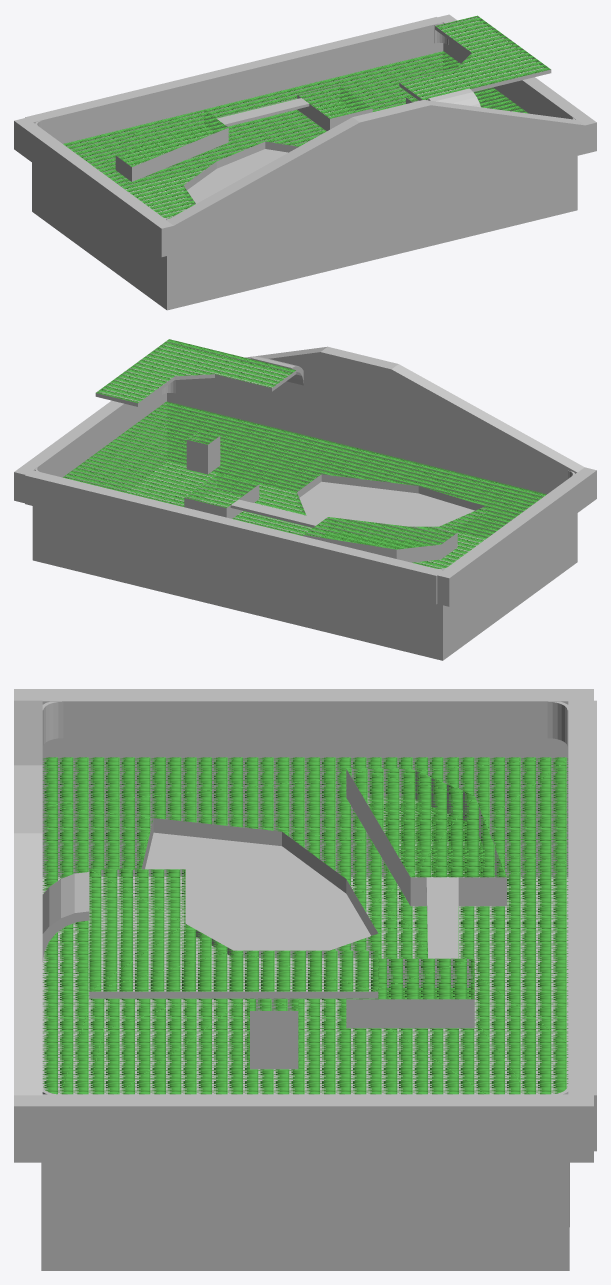
The model's file is MeadowMatchMesh.fbx.
3 views of the same model, one above another, from view 1: azimuth 30°, elevation 25°; view 2: azimuth 150°, elevation 25°; view 3: azimuth 270°, elevation 25° (orthographic). The views are drawn at different scales.
Parts seen in each view (by area): view 1: Ground, Cube__1_, Cube, Cube__3_, BigOleFloaty, GreaterChonky, Cube__2_, LesserChonky, Bridge, Arch__5_; view 2: Ground, Cube__1_, Cube, Cube__3_, BigOleFloaty, Cube__2_, GreaterChonky, LesserChonky, Cube_1, Bridge, Arch__5_; view 3: Ground, Cube__2_, Cube__3_, BigOleFloaty, GreaterChonky, Cube, Cube__1_, LesserChonky, Cube_1, Bridge, Arch__5_, Arch__1_ (+1 smaller).
Part boxes in pixels (x1,y1,x2,y2): Ground: [32, 51, 577, 310]; Cube__1_: [167, 100, 585, 254]; Cube: [25, 17, 443, 143]; Cube__3_: [14, 118, 173, 257]; BigOleFloaty: [399, 15, 551, 100]; GreaterChonky: [115, 110, 228, 181]; Cube__2_: [437, 14, 596, 153]; LesserChonky: [297, 84, 372, 130]; Bridge: [217, 98, 309, 126]; Arch__5_: [428, 88, 480, 107]; Ground: [32, 401, 577, 660]; Cube__1_: [167, 346, 584, 493]; Cube: [25, 470, 442, 604]; Cube__3_: [437, 467, 596, 606]; BigOleFloaty: [95, 339, 296, 406]; Cube__2_: [14, 389, 166, 503]; GreaterChonky: [303, 517, 457, 562]; LesserChonky: [184, 474, 259, 518]; Cube_1: [186, 431, 220, 474]; Bridge: [230, 499, 323, 527]; Arch__5_: [250, 356, 303, 385]; Ground: [41, 757, 569, 1270]; Cube__2_: [14, 1094, 593, 1162]; Cube__3_: [14, 689, 593, 757]; BigOleFloaty: [89, 869, 378, 998]; GreaterChonky: [346, 768, 506, 906]; Cube: [568, 700, 596, 1151]; Cube__1_: [14, 700, 42, 1095]; LesserChonky: [346, 958, 474, 1028]; Cube_1: [250, 998, 298, 1069]; Bridge: [426, 877, 458, 963]; Arch__5_: [42, 872, 89, 961]; Arch__1_: [42, 701, 63, 746].
Size of the model in its own units: 12301 by 3988 by 7261.
